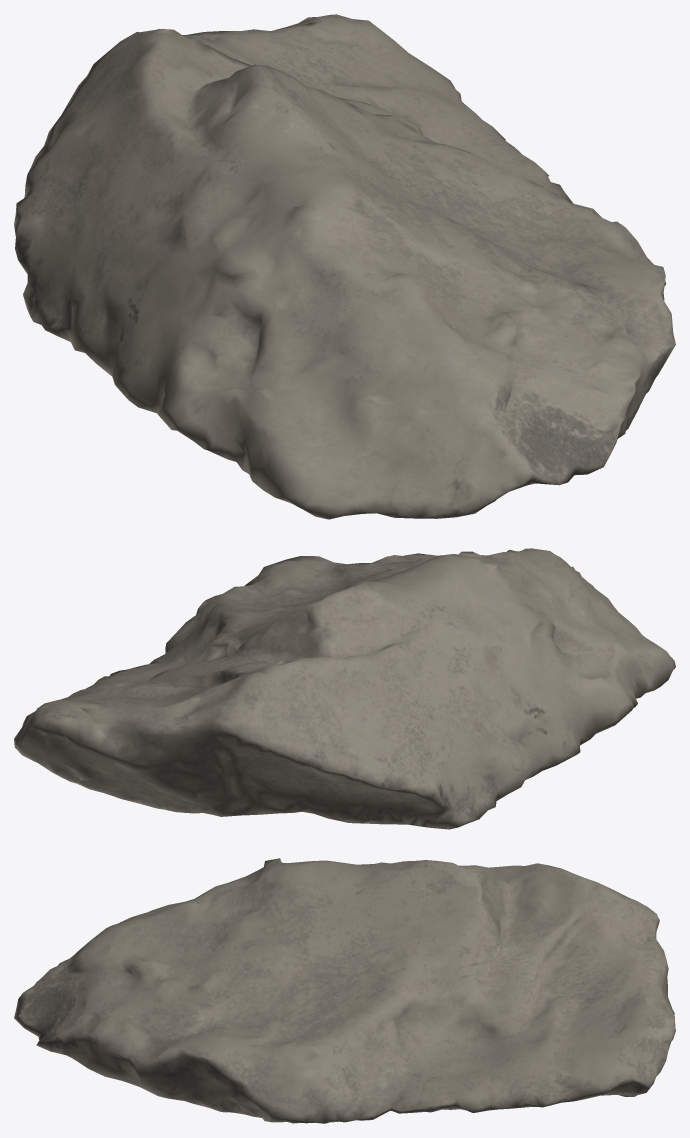
Rendered from moon_rock_04_4k.gltf.
3 views of the same model, one above another, from view 1: azimuth 30°, elevation 25°; view 2: azimuth 150°, elevation 25°; view 3: azimuth 270°, elevation 25° (orthographic). The views are drawn at different scales.
Visible parts, largest first — view 1: moon_rock_04_LOD0; view 2: moon_rock_04_LOD0; view 3: moon_rock_04_LOD0.
Part boxes in pixels (x1,y1,x2,y2): moon_rock_04_LOD0: (14, 14, 675, 519); moon_rock_04_LOD0: (14, 548, 675, 829); moon_rock_04_LOD0: (14, 858, 675, 1123).
Bounding box in the file's own units: 0.1198 × 0.0538 × 0.1738.
Materials: 1 (1 with a texture image).
